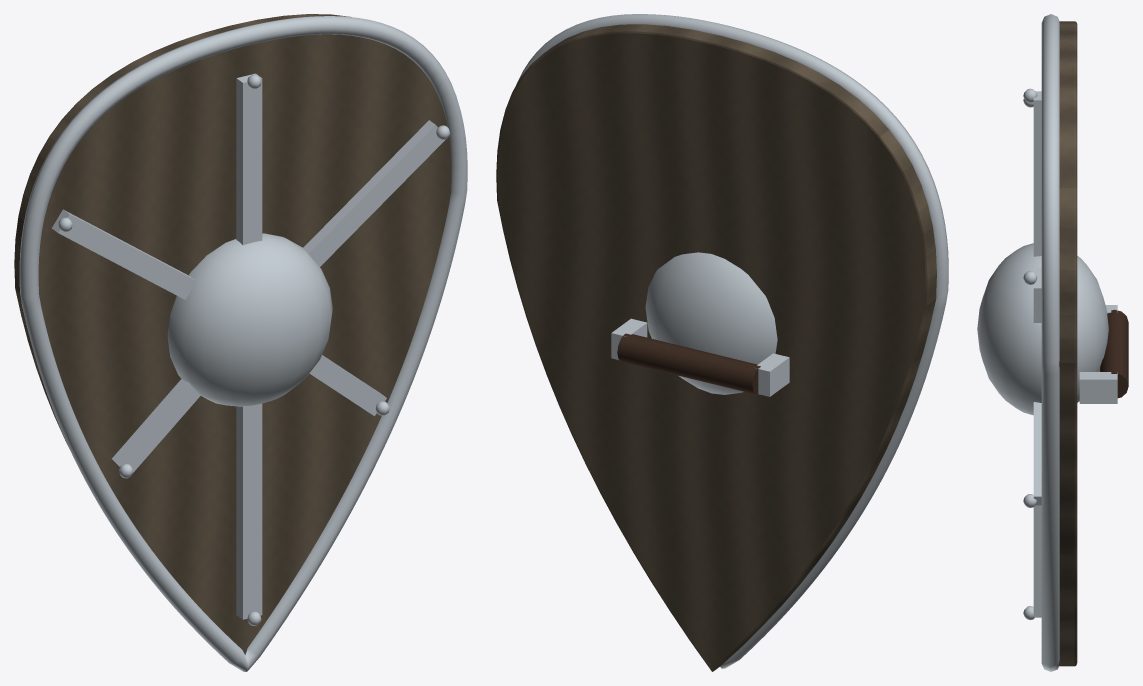
File: corealm_shield_3.glb
The picture shows the model from 3 angles, left to right: view 1: azimuth 30°, elevation 25°; view 2: azimuth 150°, elevation 25°; view 3: azimuth 270°, elevation 25°; orthographic projection. The views are drawn at different scales.
Parts seen in each view (by area): view 1: corealm-weapon-wood, corealm-weapon-metal; view 2: corealm-weapon-wood, corealm-weapon-metal, corealm-weapon-leather; view 3: corealm-weapon-metal, corealm-weapon-wood, corealm-weapon-leather.
Part boxes in pixels (bbox=[...]): corealm-weapon-wood: bbox=[14, 14, 451, 654]; corealm-weapon-metal: bbox=[19, 16, 467, 671]; corealm-weapon-wood: bbox=[496, 24, 936, 671]; corealm-weapon-metal: bbox=[516, 14, 948, 668]; corealm-weapon-leather: bbox=[617, 333, 760, 394]; corealm-weapon-metal: bbox=[977, 14, 1117, 671]; corealm-weapon-wood: bbox=[1059, 21, 1077, 666]; corealm-weapon-leather: bbox=[1100, 309, 1128, 398].
Bounding box in the file's own units: 0.6262 × 0.864 × 0.191.
3 materials, 2 textured.
